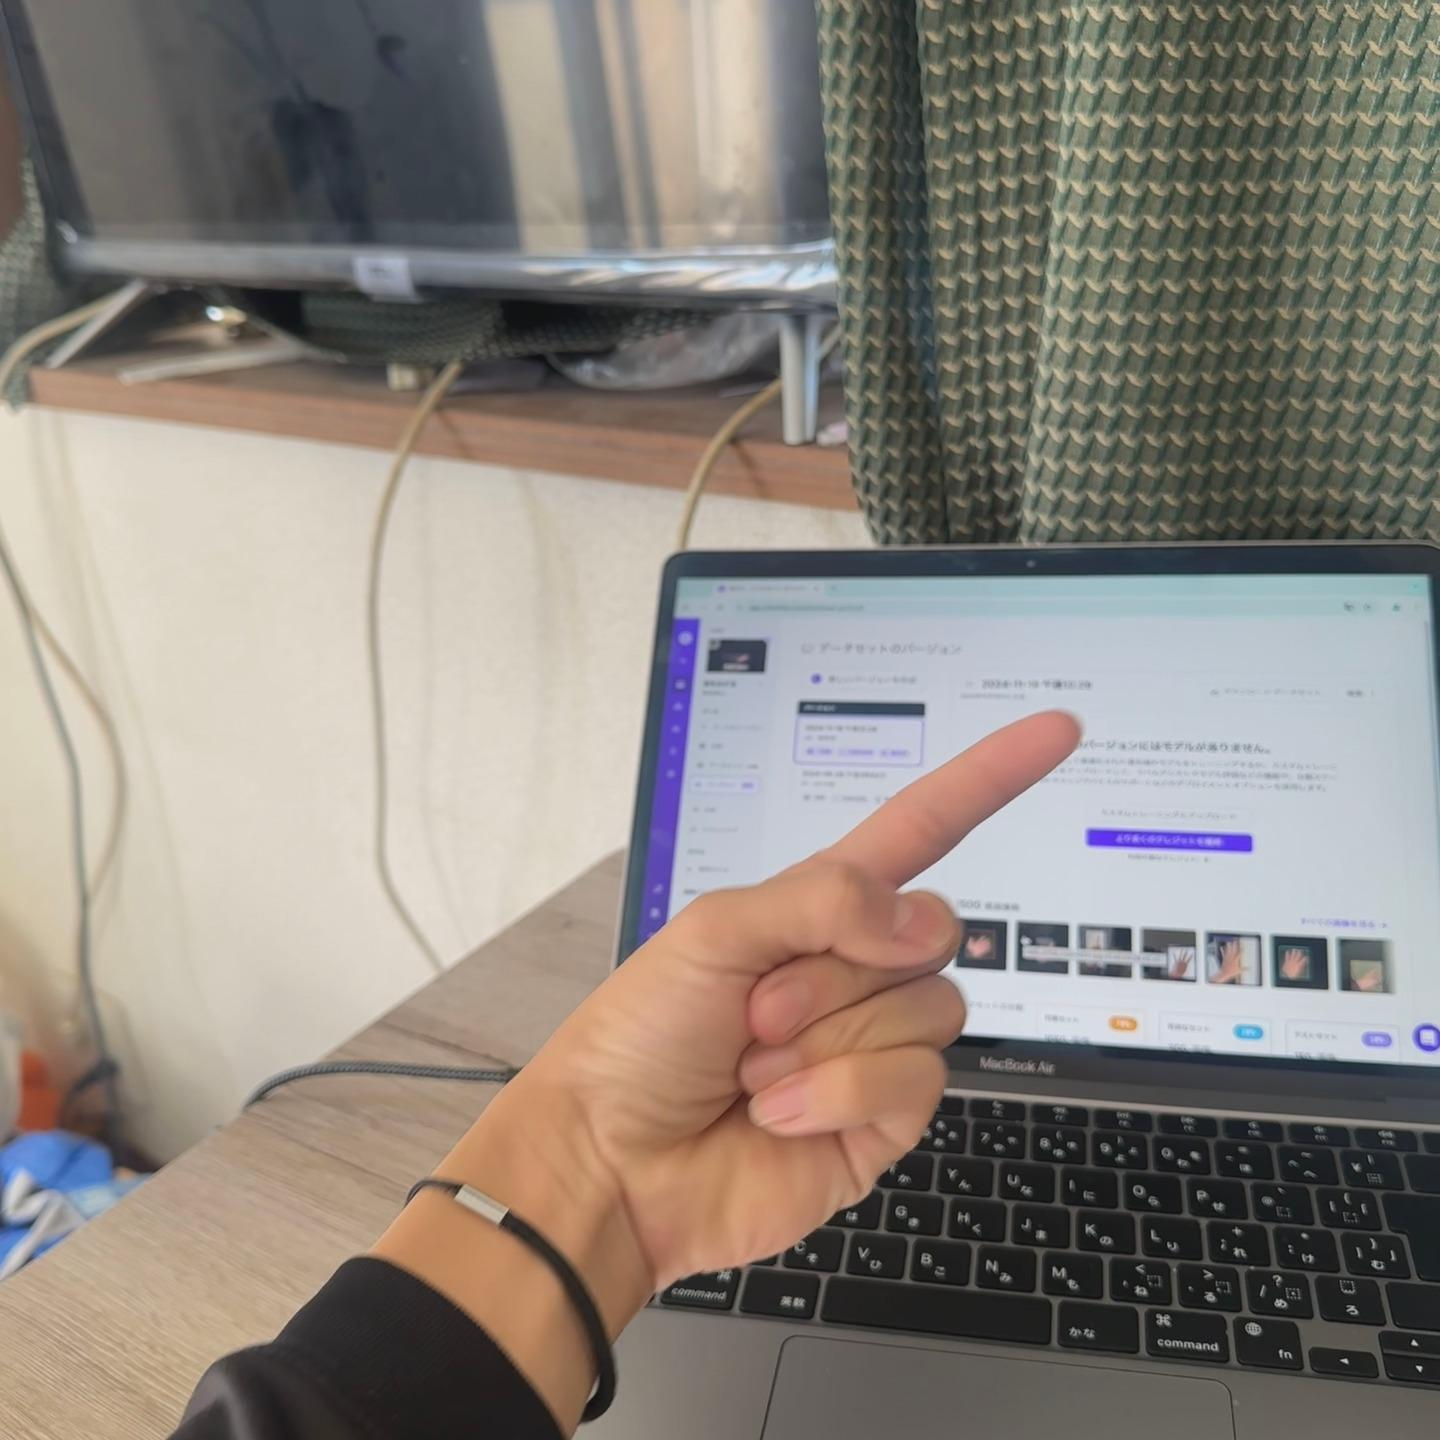without_gloves: (513, 630, 1158, 1252)
